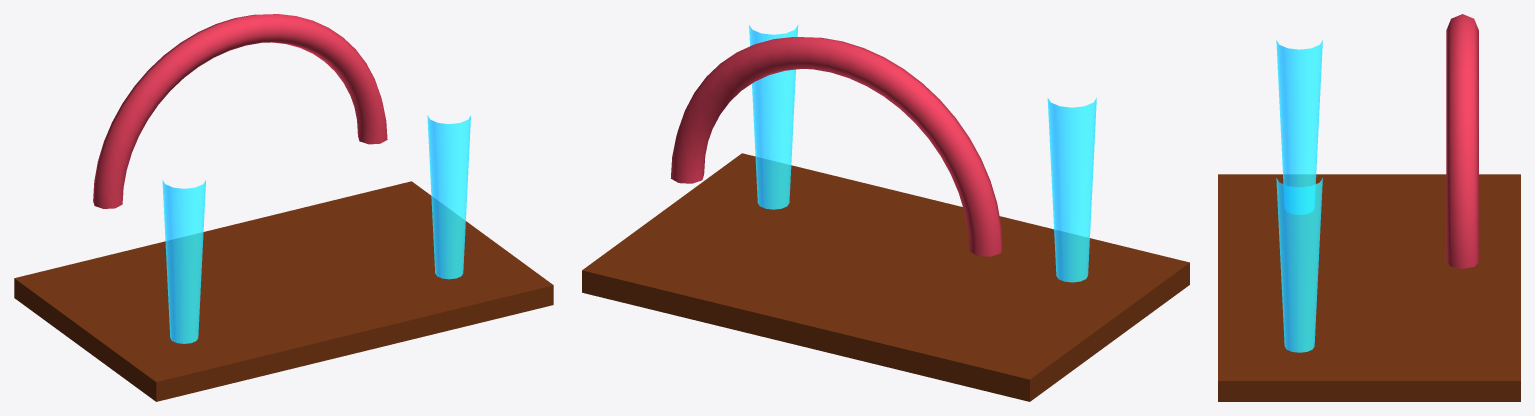
The model's file is coral_palace.glb.
3 views of the same model, side by side, from view 1: azimuth 30°, elevation 25°; view 2: azimuth 150°, elevation 25°; view 3: azimuth 270°, elevation 25° (orthographic). The views are drawn at different scales.
Parts seen in each view (by area): view 1: CoralPalace; view 2: CoralPalace; view 3: CoralPalace.
Part boxes in pixels (x1=…): CoralPalace: x1=14, y1=14, x2=553, y2=401; CoralPalace: x1=582, y1=25, x2=1189, y2=401; CoralPalace: x1=1218, y1=14, x2=1520, y2=401.
Size of the model in its own units: 10.5 by 6.35 by 6.5.
